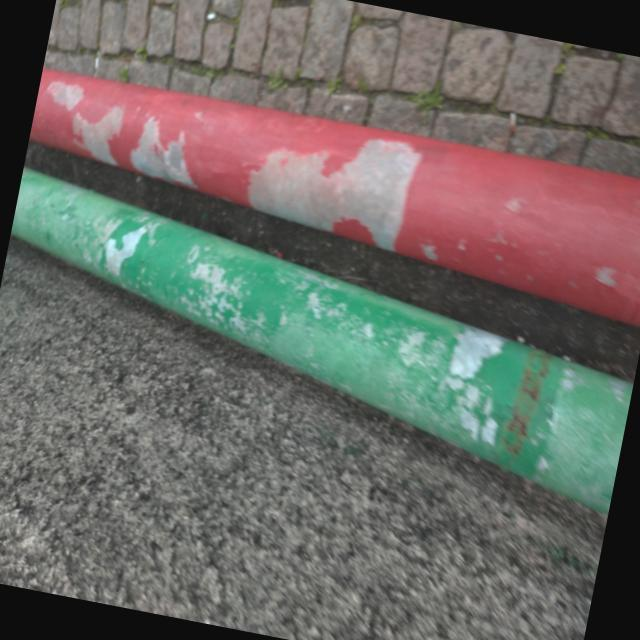gas: (25, 179, 627, 508), (56, 76, 640, 328)
